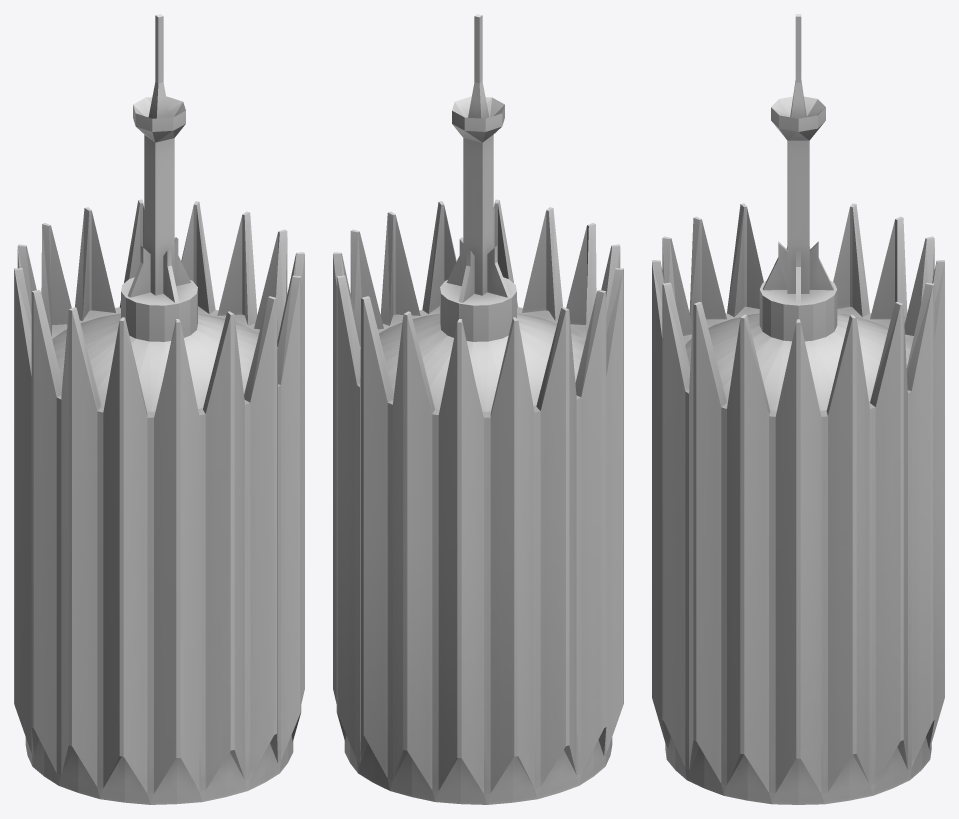
File: cniirtk2.dae
3 views of the same model, side by side, from view 1: azimuth 30°, elevation 25°; view 2: azimuth 150°, elevation 25°; view 3: azimuth 270°, elevation 25° (orthographic).
Parts seen in each view (by area): view 1: cniirtk2; view 2: cniirtk2; view 3: cniirtk2.
Boxes of the visible parts, left/top/right/bottom form: cniirtk2: left=14, top=14, right=304, bottom=804; cniirtk2: left=333, top=14, right=623, bottom=804; cniirtk2: left=652, top=14, right=944, bottom=804.
Bounding box in the file's own units: 0.0534 × 0.0534 × 0.1475.
1 material, 1 textured.
